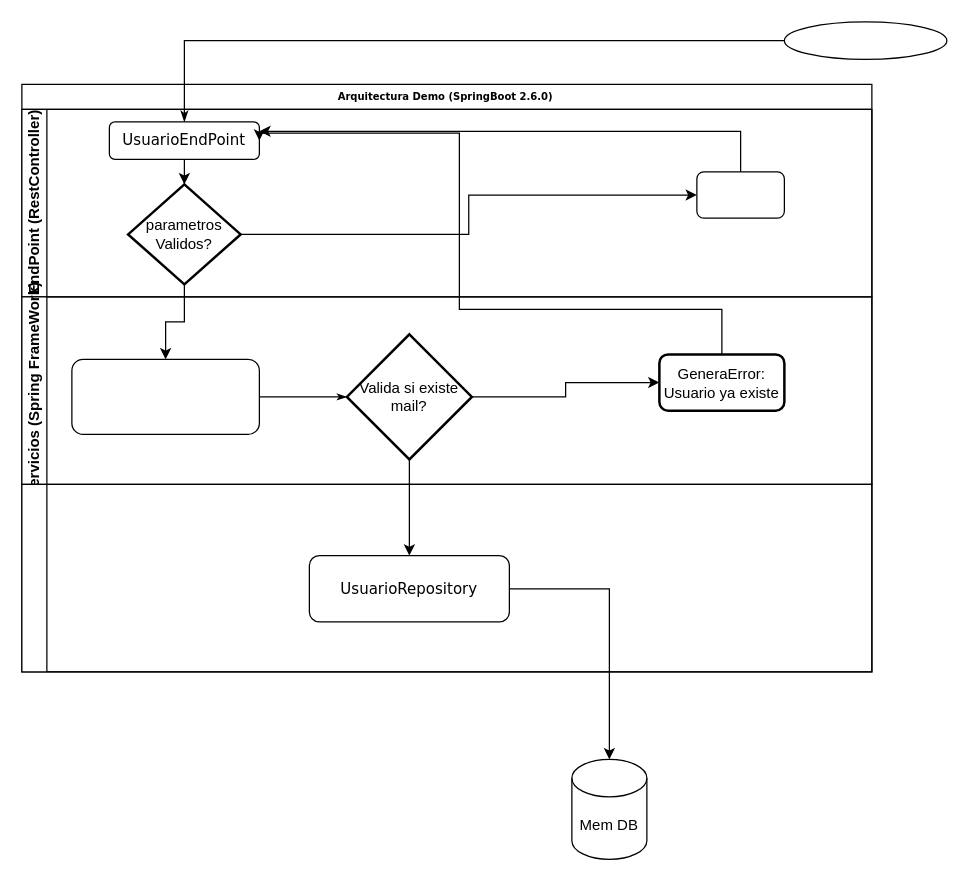
The diagram is 969 pixels wide and 881 high, and some of its shapes have lost their labels. The shapes that lost their labels are listed below. From the top down, each one's box as (x1, y1, x2, y2) in pixels, then its label:
(783, 21, 947, 59): Post:guardarUsuario
(696, 171, 784, 218): Error Validaciones
(71, 358, 259, 434): UsuarioService
(21, 483, 872, 672): Datos (SpringData)
